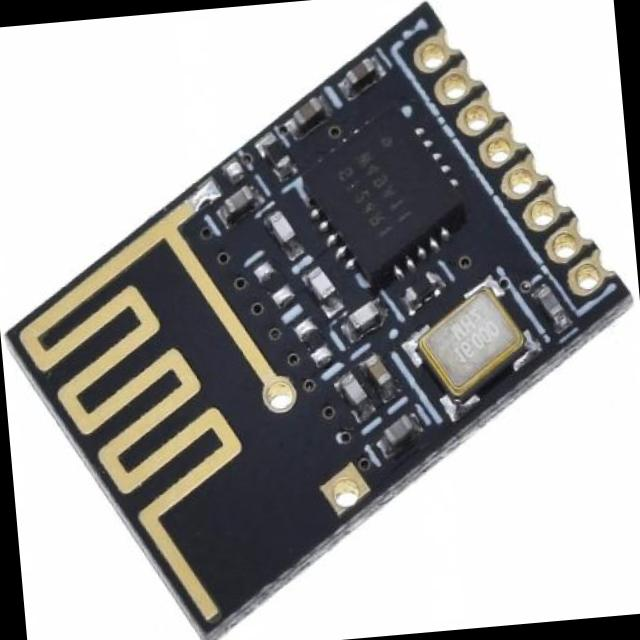IC: (296, 103, 468, 288)
capacitor: (212, 183, 260, 232), (337, 52, 379, 94), (286, 90, 326, 130), (534, 280, 566, 324), (334, 372, 370, 410), (344, 300, 384, 334), (378, 414, 418, 445), (264, 210, 295, 248), (302, 264, 334, 300), (363, 355, 390, 387)
resistor: (256, 134, 295, 174), (297, 322, 332, 362)
